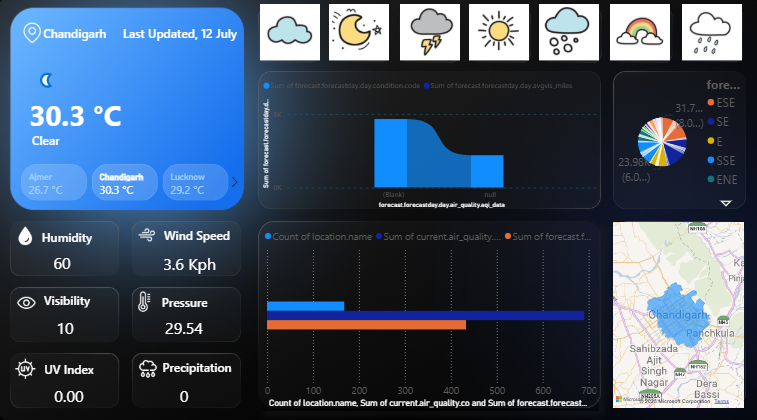

The dashboard page shown, as its layout file describes it:
{"tool":"powerbi","page":{"name":"Page 1","canvas":[1280,720],"ordinal":0},"visuals":[{"type":"advancedSlicerVisual","fields":{"Values":["Locations.location.name"]},"box":[17.5,276.2,396.2,71.2],"z":0},{"type":"shape","box":[51.4,155.7,164.3,87.1],"z":1000},{"type":"shape","box":[61.4,218.6,362.9,47.1],"z":2000},{"type":"shape","box":[51.8,40.3,162.7,46.1],"z":3000},{"type":"shape","box":[203.8,40,210,46.2],"z":4000},{"type":"image","box":[40,40,43.8,46.2],"z":5000},{"type":"cardVisual","fields":{"Data":["Min(Current.current.condition.icon)"]},"box":[27.1,85.7,112.9,87.1],"z":6000},{"type":"image","box":[22.9,490,57.1,45.7],"z":7000},{"type":"shape","box":[54.3,380,130,45.7],"z":8000},{"type":"shape","box":[58.6,600,130,45.7],"z":9000},{"type":"shape","box":[271.4,597.1,130,45.7],"z":10000},{"type":"shape","box":[242.9,487.1,145.7,48.6],"z":11000},{"type":"shape","box":[271.4,377.1,130,45.7],"z":12000},{"type":"shape","box":[54.3,484.3,130,45.7],"z":13000},{"type":"image","box":[27.1,600,48.6,45.7],"z":14000},{"type":"image","box":[232.9,372.9,38.6,52.9],"z":15000},{"type":"image","box":[25.7,380,50,42.9],"z":16000},{"type":"image","box":[227.1,484.3,44.3,51.4],"z":17000},{"type":"image","box":[224.3,600,60,45.7],"z":18000},{"type":"card","fields":{"Values":["Sum(Current.current.humidity)"]},"box":[51.4,418.6,120,57.1],"z":19000},{"type":"card","fields":{"Values":["_Measures.Wind_Speed"]},"box":[260,422.9,128.6,50],"z":20000},{"type":"card","fields":{"Values":["Sum(Current.current.vis_km)"]},"box":[61.4,530,110,50],"z":21000},{"type":"card","fields":{"Values":["Sum(Current.current.pressure_in)"]},"box":[260,530,110,50],"z":22000},{"type":"card","fields":{"Values":["Sum(Current.current.uv)"]},"box":[68.6,642.9,110,50],"z":23000},{"type":"card","fields":{"Values":["Sum(Current.current.precip_in)"]},"box":[260,642.9,110,50],"z":24000},{"type":"image","box":[557.1,15.7,100,94.3],"z":25000},{"type":"image","box":[441.4,15.7,100,94.3],"z":26000},{"type":"image","box":[675.7,15.7,100,94.3],"z":27000},{"type":"image","box":[790,15.7,100,94.3],"z":28000},{"type":"image","box":[1025.7,15.7,100,94.3],"z":29000},{"type":"image","box":[907.1,15.7,100,94.3],"z":30000},{"type":"image","box":[1144.3,15.7,100,94.3],"z":31000},{"type":"ribbonChart","fields":{"Category":["forcast_day.forecast.forecastday.day.air_quality.aqi_data"],"Y":["Sum(forcast_day.forecast.forecastday.day.condition.code)","Sum(forcast_day.forecast.forecastday.day.avgvis_miles)"]},"box":[441.4,131.4,565.7,228.6],"z":32000},{"type":"clusteredBarChart","fields":{"Y":["CountNonNull(forcast_hour.location.name)","Sum(Current.current.air_quality.co)","Sum(forcast_hour.forecast.forecastday.hour.air_quality.us-epa-index)"]},"box":[442.9,380,564.3,312.9],"z":33000},{"type":"pieChart","fields":{"Y":["Sum(forcast_hour.forecast.forecastday.hour.air_quality.co)","Sum(forcast_hour.forecast.forecastday.hour.air_quality.gb-defra-index)","Sum(forcast_hour.forecast.forecastday.hour.air_quality.no2)","Sum(forcast_hour.forecast.forecastday.hour.air_quality.o3)","Sum(forcast_hour.forecast.forecastday.hour.air_quality.pm10)","Sum(forcast_hour.forecast.forecastday.hour.air_quality.pm2_5)","Sum(forcast_hour.forecast.forecastday.hour.air_quality.so2)","Sum(forcast_hour.forecast.forecastday.hour.air_quality.us-epa-index)","Sum(forcast_hour.forecast.forecastday.hour.chance_of_rain)","Sum(forcast_hour.forecast.forecastday.hour.chance_of_snow)","Sum(forcast_hour.forecast.forecastday.hour.cloud)","Sum(forcast_hour.forecast.forecastday.hour.condition.code)"],"Category":["forcast_hour.forecast.forecastday.hour.wind_dir"]},"box":[1032.9,130,221.4,230],"z":34000},{"type":"filledMap","fields":{"Category":["forcast_hour.location.name"]},"box":[1025.7,372.9,228.6,320],"z":34001}]}

Visuals, with their boxes in screenshot pixels (x1, y1, x2, y2), scaled from the page's 1280x720 canvas onto the 757x420 screenshot:
advancedSlicerVisual - Locations.location.name: bbox(10, 161, 245, 203)
shape: bbox(30, 91, 128, 142)
shape: bbox(36, 128, 251, 155)
shape: bbox(31, 24, 127, 50)
shape: bbox(121, 23, 245, 50)
image: bbox(24, 23, 50, 50)
cardVisual - Min(Current.current.condition.icon): bbox(16, 50, 83, 101)
image: bbox(14, 286, 47, 312)
shape: bbox(32, 222, 109, 248)
shape: bbox(35, 350, 112, 377)
shape: bbox(161, 348, 237, 375)
shape: bbox(144, 284, 230, 312)
shape: bbox(161, 220, 237, 247)
shape: bbox(32, 283, 109, 309)
image: bbox(16, 350, 45, 377)
image: bbox(138, 218, 161, 248)
image: bbox(15, 222, 45, 247)
image: bbox(134, 283, 161, 312)
image: bbox(133, 350, 168, 377)
card - Sum(Current.current.humidity): bbox(30, 244, 101, 277)
card - _Measures.Wind_Speed: bbox(154, 247, 230, 276)
card - Sum(Current.current.vis_km): bbox(36, 309, 101, 338)
card - Sum(Current.current.pressure_in): bbox(154, 309, 219, 338)
card - Sum(Current.current.uv): bbox(41, 375, 106, 404)
card - Sum(Current.current.precip_in): bbox(154, 375, 219, 404)
image: bbox(329, 9, 389, 64)
image: bbox(261, 9, 320, 64)
image: bbox(400, 9, 459, 64)
image: bbox(467, 9, 526, 64)
image: bbox(607, 9, 666, 64)
image: bbox(536, 9, 596, 64)
image: bbox(677, 9, 736, 64)
ribbonChart - forcast_day.forecast.forecastday.day.air_quality.aqi_data x Sum(forcast_day.forecast.forecastday.day.condition.code): bbox(261, 77, 596, 210)
clusteredBarChart - CountNonNull(forcast_hour.location.name) x Sum(Current.current.air_quality.co): bbox(262, 222, 596, 404)
pieChart - Sum(forcast_hour.forecast.forecastday.hour.air_quality.co) x Sum(forcast_hour.forecast.forecastday.hour.air_quality.gb-defra-index): bbox(611, 76, 742, 210)
filledMap - forcast_hour.location.name: bbox(607, 218, 742, 404)
